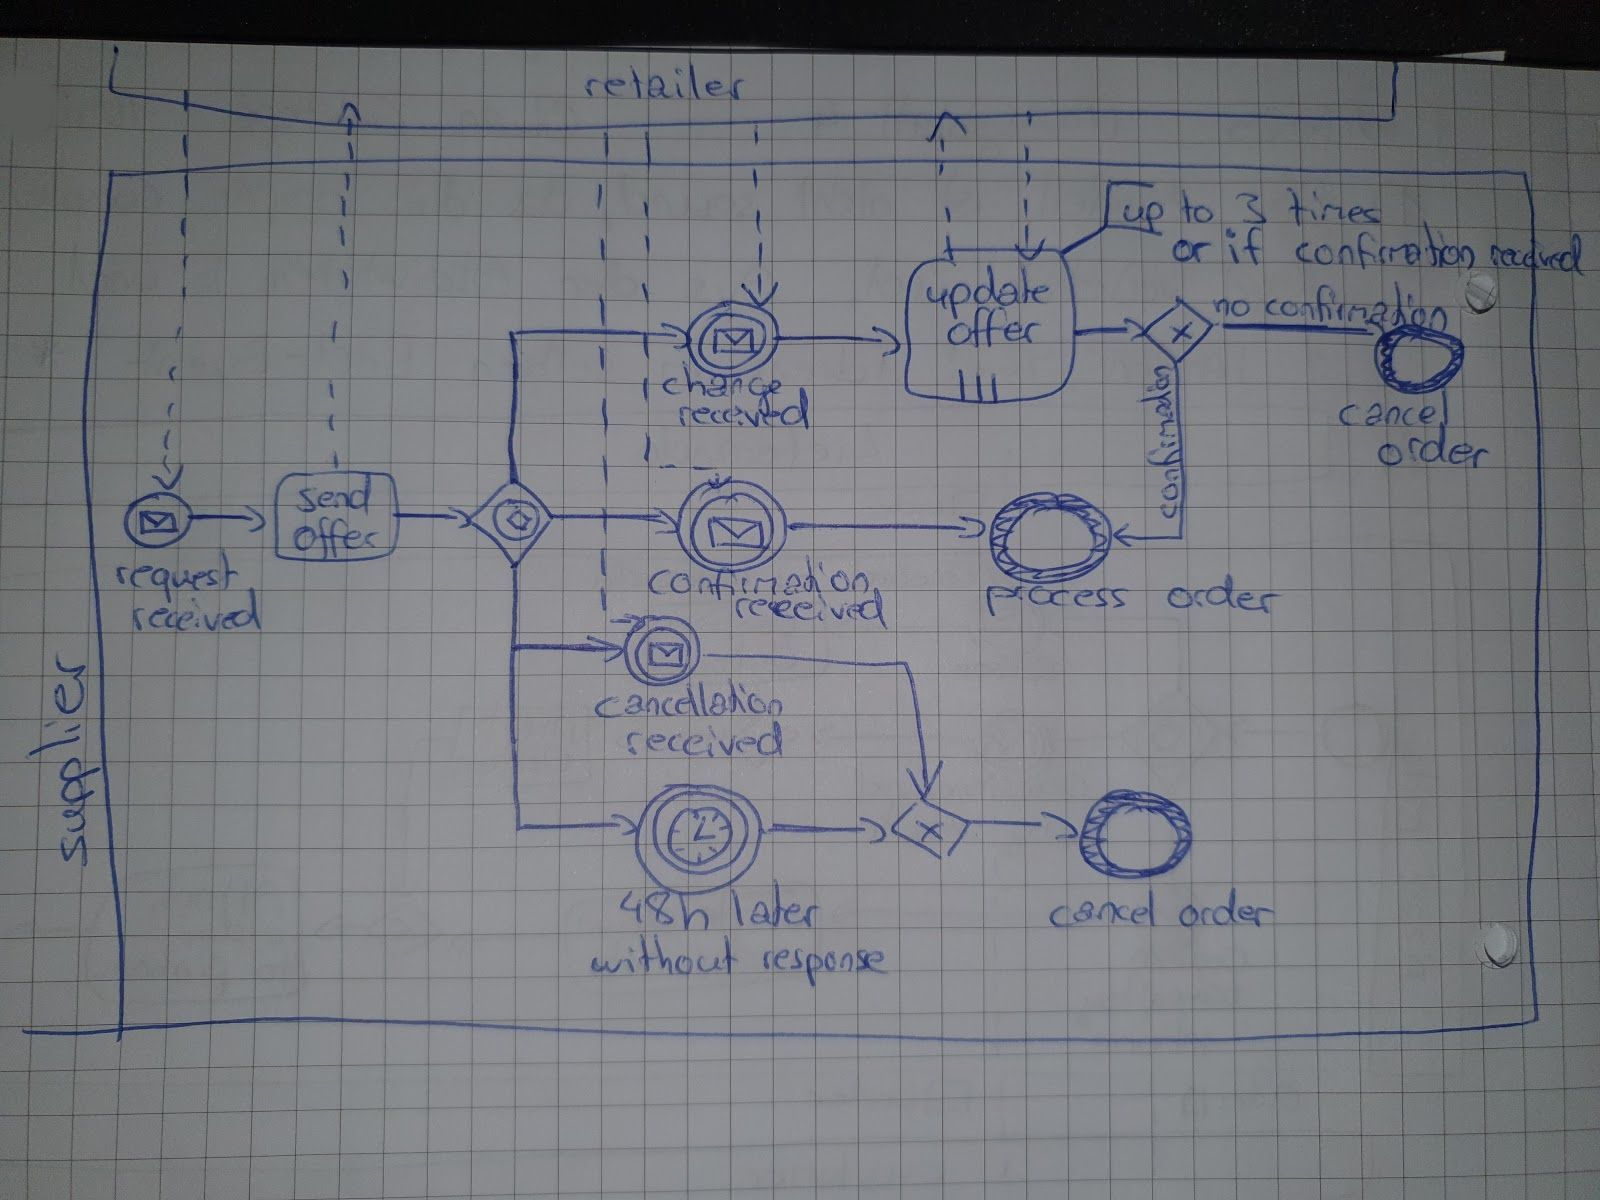3: (1233, 187, 1271, 224)
48: (624, 884, 677, 932)
Process: (976, 579, 1133, 619)
cancel: (1048, 894, 1160, 933), (1340, 400, 1443, 432)
cancellation: (591, 688, 785, 724)
change: (663, 372, 787, 398)
confirmation: (1260, 289, 1459, 337), (648, 557, 868, 599), (1290, 232, 1474, 274), (1141, 361, 1184, 518)
h: (677, 889, 708, 938)
if: (1220, 229, 1279, 268)
later: (724, 892, 821, 932)
no: (1212, 286, 1254, 324)
offer: (950, 309, 1042, 350), (296, 519, 384, 555)
or: (1173, 229, 1213, 268)
order: (1174, 575, 1283, 618), (1383, 437, 1493, 473), (1180, 892, 1276, 932)
received: (622, 724, 784, 760), (126, 596, 261, 637), (677, 391, 813, 430), (731, 596, 888, 628), (1482, 234, 1594, 279)
request: (112, 561, 244, 594)
response: (753, 940, 892, 979)
retailer: (583, 67, 746, 108)
send: (299, 479, 374, 517)
supplier: (45, 655, 93, 858)
times: (1288, 189, 1385, 228)
to: (1173, 189, 1221, 229)
up: (1123, 192, 1167, 233)
update: (920, 258, 1053, 319)
without: (588, 938, 737, 978)
